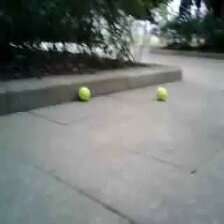tennis: (155, 87, 167, 100), (78, 87, 90, 99)
